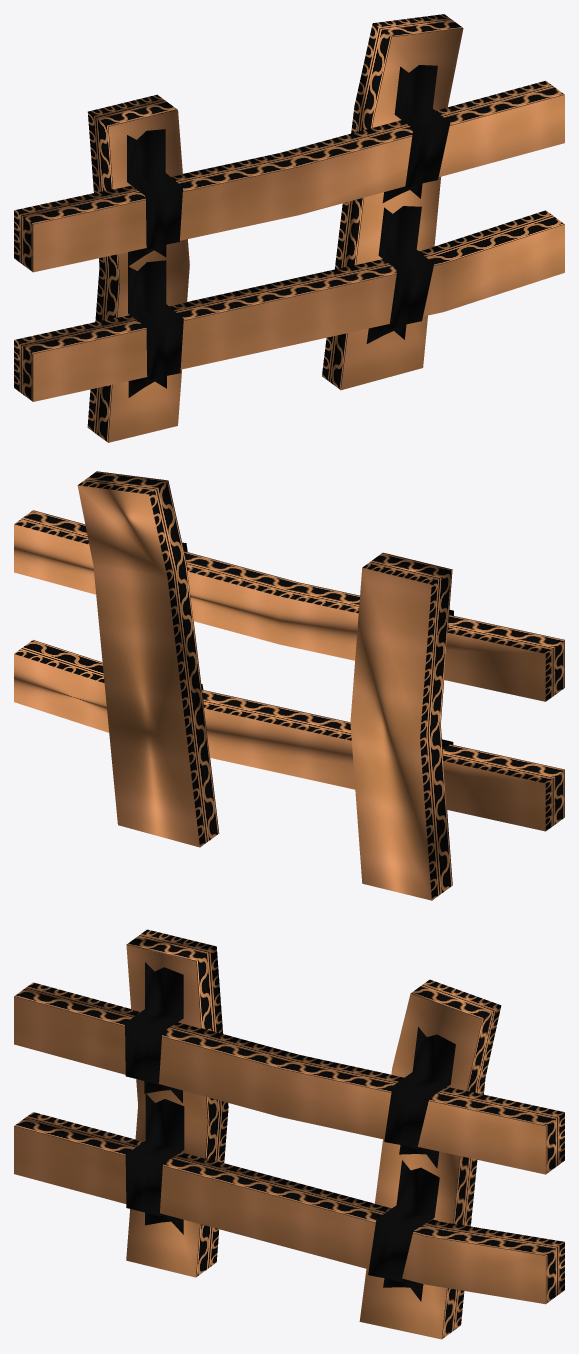
Rendered from M_Cardboard_Assets_Fence Double Bar.fbx.
3 renders of one model, top to bottom at view 1: azimuth 30°, elevation 25°; view 2: azimuth 150°, elevation 25°; view 3: azimuth 330°, elevation 25°, orthographic.
Parts seen in each view (by area): view 1: Panels.005, Panels.010, Panels.007, Panels.006, Panels.011, Panels.012, Panels.008, Panels.009; view 2: Panels.007, Panels.006, Panels.005, Panels.010; view 3: Panels.005, Panels.010, Panels.007, Panels.006, Panels.012, Panels.009, Panels.011, Panels.008.
Boxes of the visible parts, x1,y1,x2,y2 form: Panels.005: [14, 80, 564, 272]; Panels.010: [14, 210, 564, 401]; Panels.007: [322, 14, 463, 390]; Panels.006: [87, 94, 189, 442]; Panels.011: [128, 260, 183, 397]; Panels.012: [366, 206, 433, 343]; Panels.008: [127, 129, 182, 266]; Panels.009: [382, 65, 450, 202]; Panels.007: [77, 471, 219, 847]; Panels.006: [350, 552, 452, 900]; Panels.005: [14, 510, 564, 701]; Panels.010: [14, 640, 564, 831]; Panels.005: [14, 982, 564, 1174]; Panels.010: [14, 1112, 564, 1304]; Panels.007: [359, 979, 501, 1339]; Panels.006: [126, 929, 228, 1277]; Panels.012: [368, 1160, 439, 1301]; Panels.009: [384, 1027, 455, 1168]; Panels.011: [125, 1094, 184, 1234]; Panels.008: [125, 962, 183, 1102].
Size of the model in its own units: 4 by 2.45 by 0.5234.
